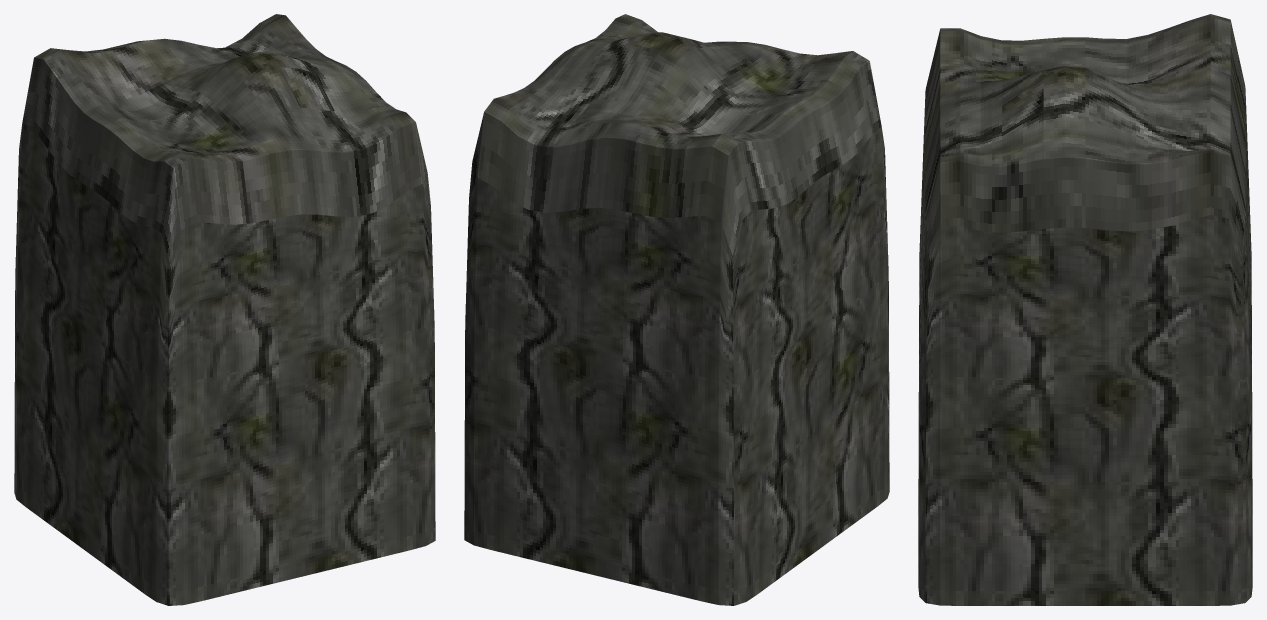
The model's file is rock_cliff_3d.glb.
3 views of the same model, side by side, from view 1: azimuth 30°, elevation 25°; view 2: azimuth 150°, elevation 25°; view 3: azimuth 270°, elevation 25° (orthographic). The views are drawn at different scales.
Parts seen in each view (by area): view 1: m; view 2: m; view 3: m.
Part boxes in pixels (x1,y1,x2,y2): m: [14, 14, 435, 605]; m: [464, 14, 889, 605]; m: [918, 14, 1252, 605].
Size of the model in its own units: 1 by 1.58 by 1.
Materials: 1 (1 with a texture image).
